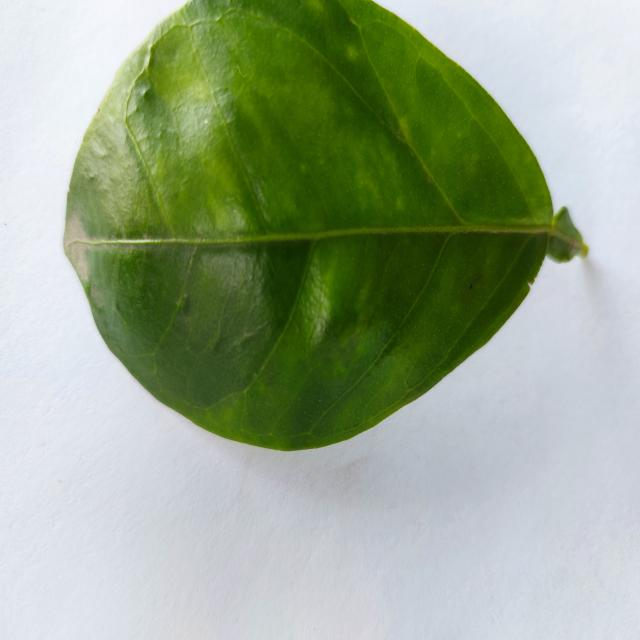greening: (64, 0, 586, 449)
